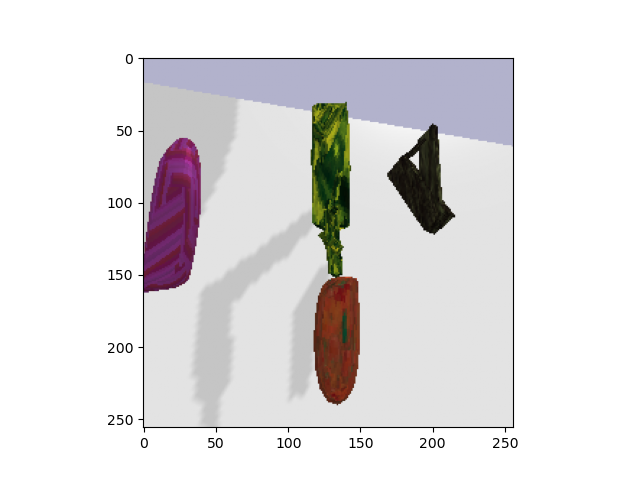v249b387_105: (144, 132, 207, 302)
v249b387_106: (307, 275, 372, 410)
v249b387_108: (304, 101, 370, 275)
v249b387_109: (382, 118, 467, 242)
